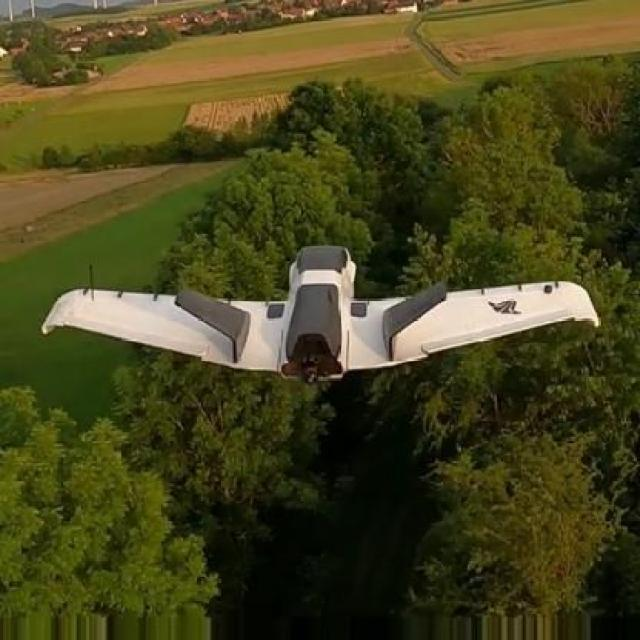iha: (33, 232, 611, 392)
